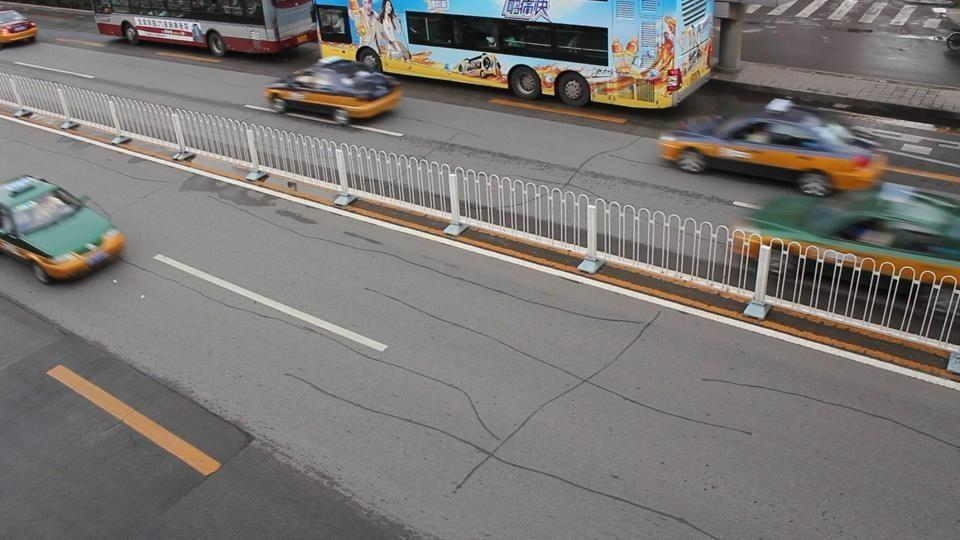car: (658, 112, 886, 200), (0, 174, 126, 284), (811, 185, 960, 263), (262, 57, 404, 125), (0, 10, 39, 47), (938, 13, 960, 55)
